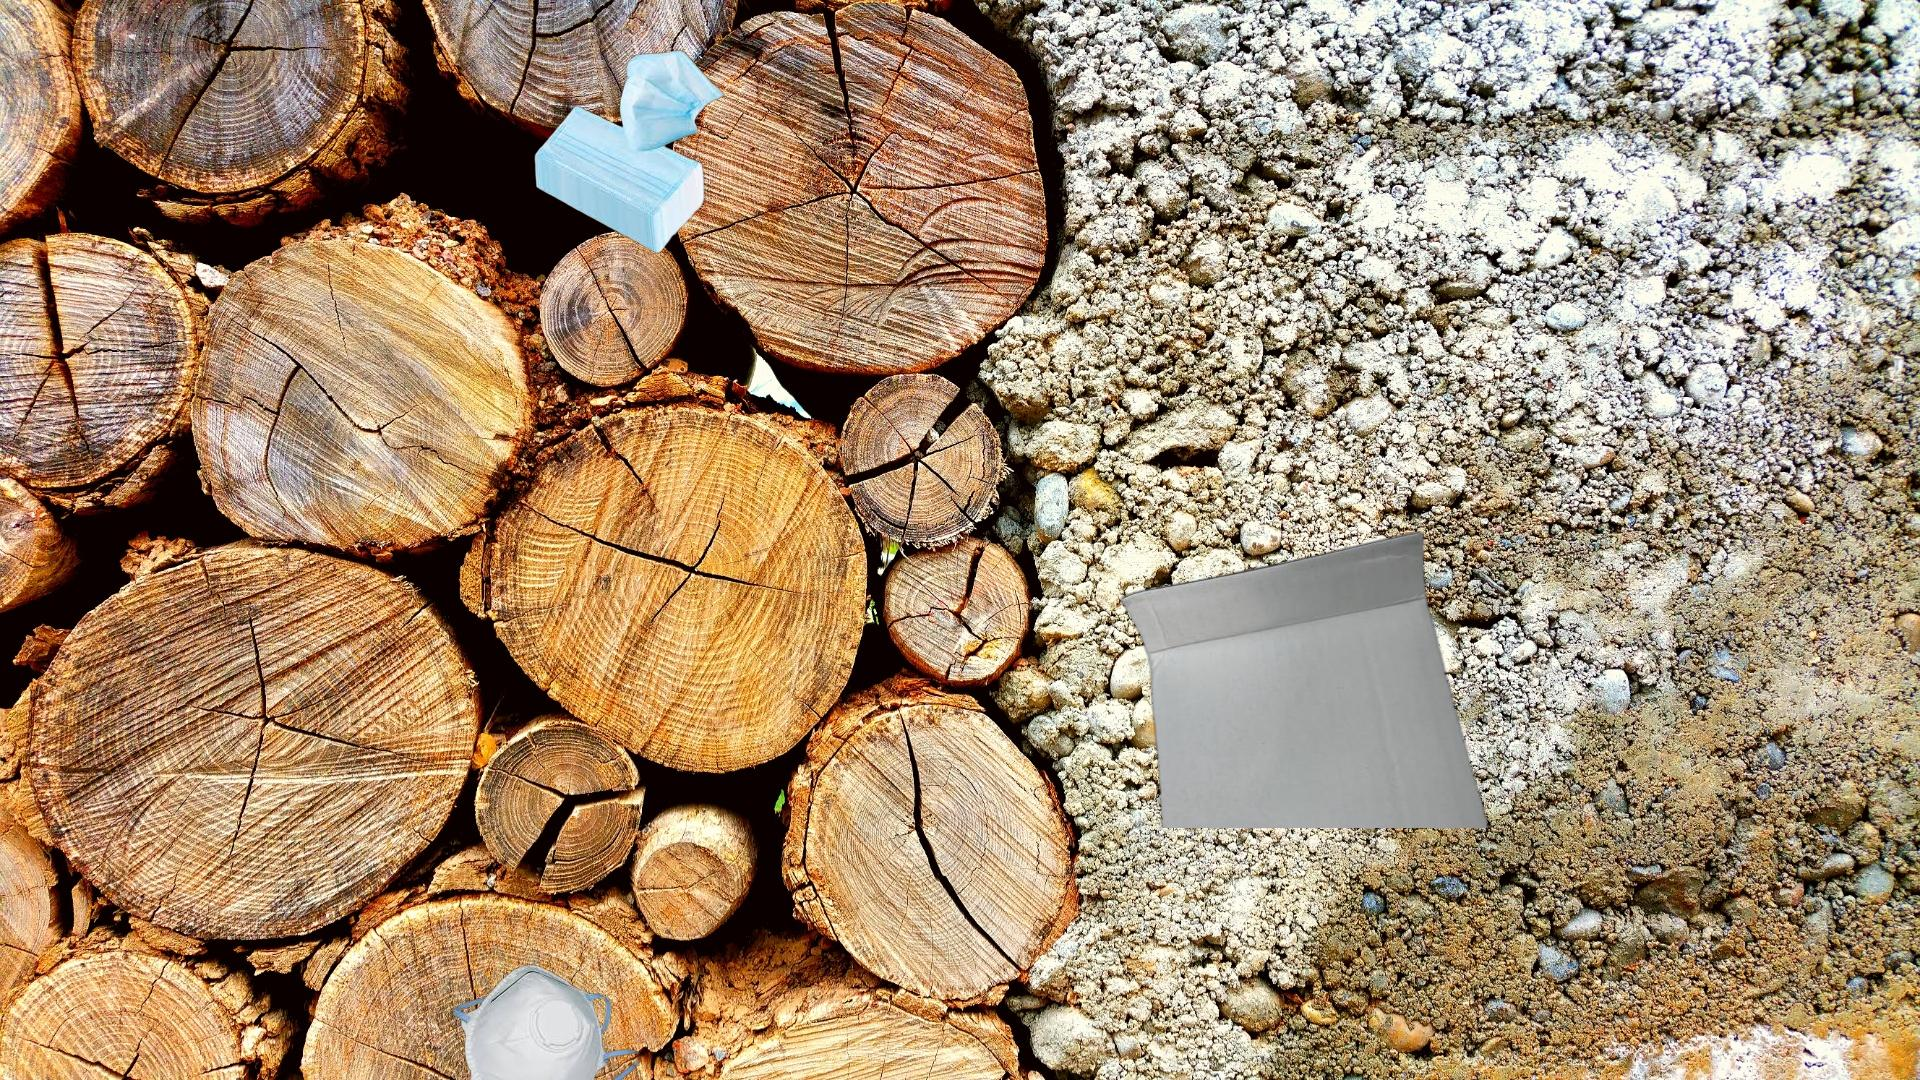paper-bag: (372, 1062, 597, 1080)
trash: (531, 47, 727, 256), (450, 963, 644, 1080)
trashbox-cardboard: (1116, 529, 1520, 828), (1644, 1054, 1920, 1080)
